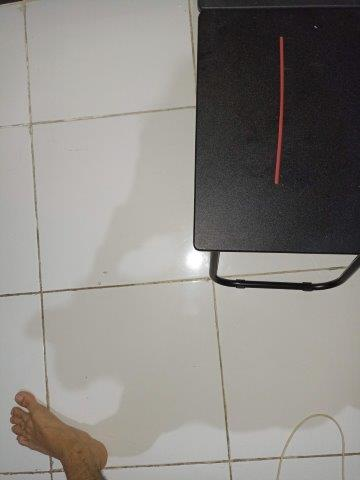sedotan: (274, 37, 285, 184)
